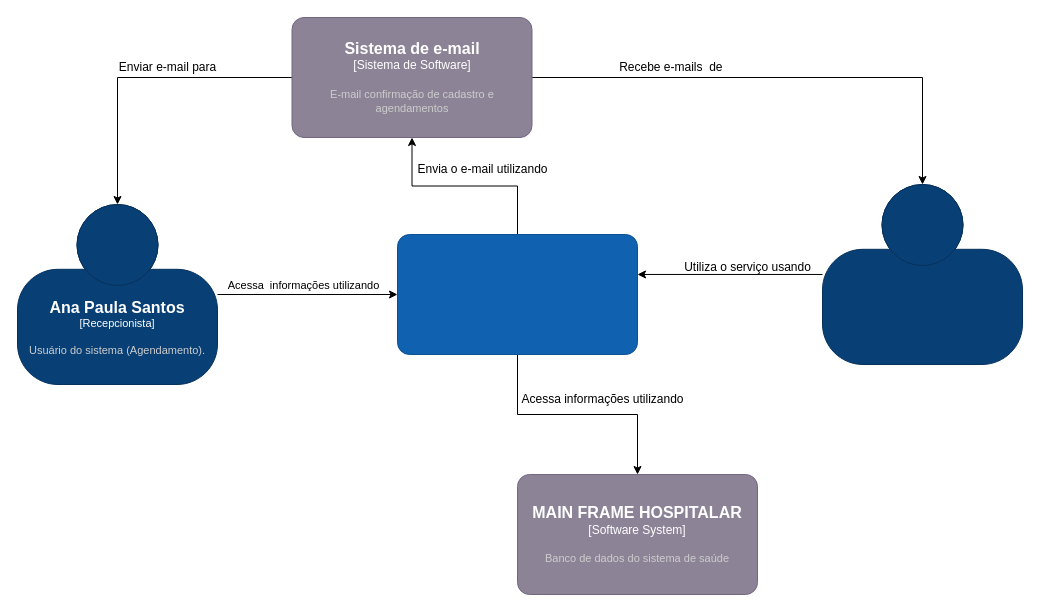
This 1040x612 diagram has some shape labels left out. The centre of each missing label's shape, as x and y in pixels:
"Isabel Souza [Paciente] Usuário do sistema (Agendamento)." goes at point 922,274.
"SIGMA [Software System] Sistema Integrado de Gestão Médica e Atendimento" goes at point 517,294.
